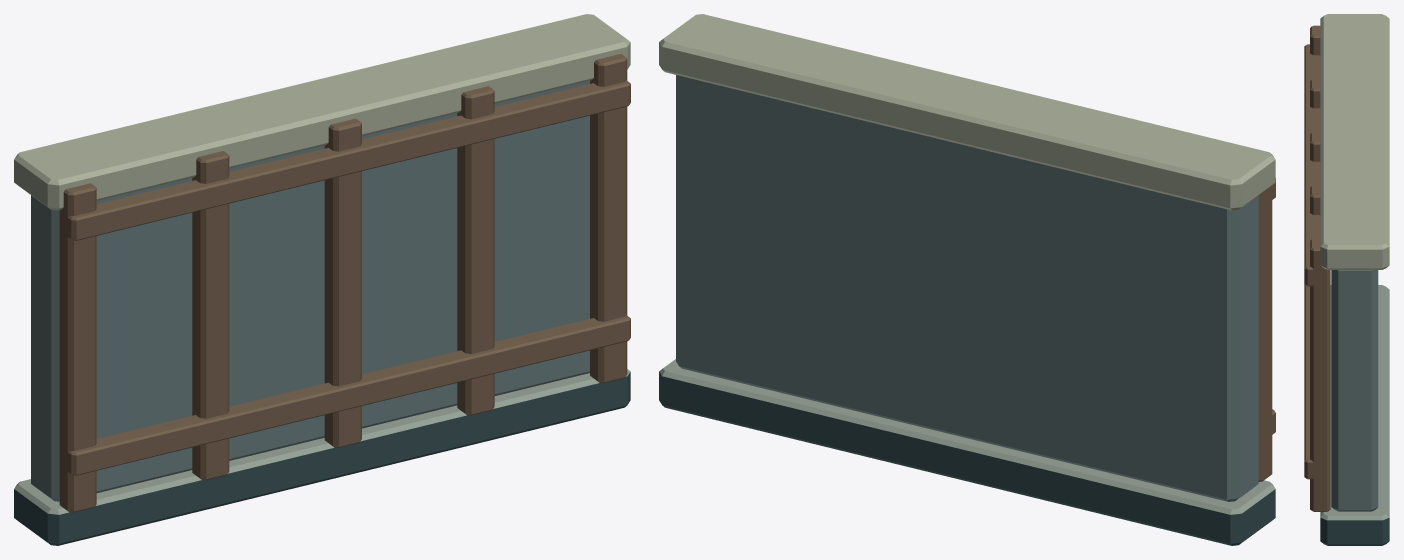
Rendered from platform-edge.glb.
3 renders of one model, left to right at view 1: azimuth 30°, elevation 25°; view 2: azimuth 150°, elevation 25°; view 3: azimuth 270°, elevation 25°, orthographic. The views are drawn at different scales.
Visible parts, largest first — view 1: platform-edge__body; view 2: platform-edge__body; view 3: platform-edge__body.
Part boxes in pixels (box(x1,y1,x2,y2)): platform-edge__body: box(14, 14, 630, 545); platform-edge__body: box(659, 14, 1275, 545); platform-edge__body: box(1304, 14, 1389, 545).
Size of the model in its own units: 2 by 1.2 by 0.3075.
